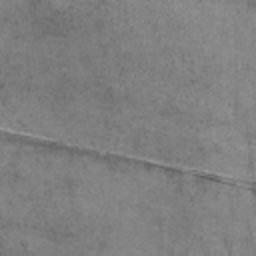Finishing roll printing: (0, 125, 256, 197)
